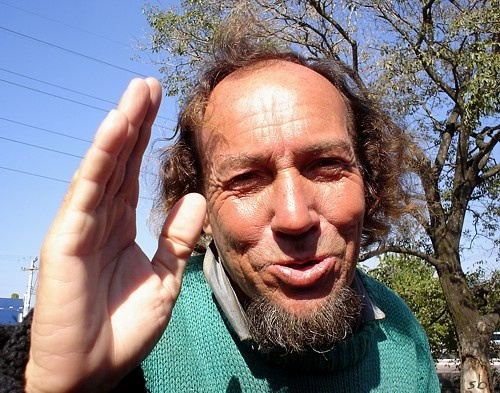head: (165, 49, 402, 360)
person: (4, 29, 483, 393)
